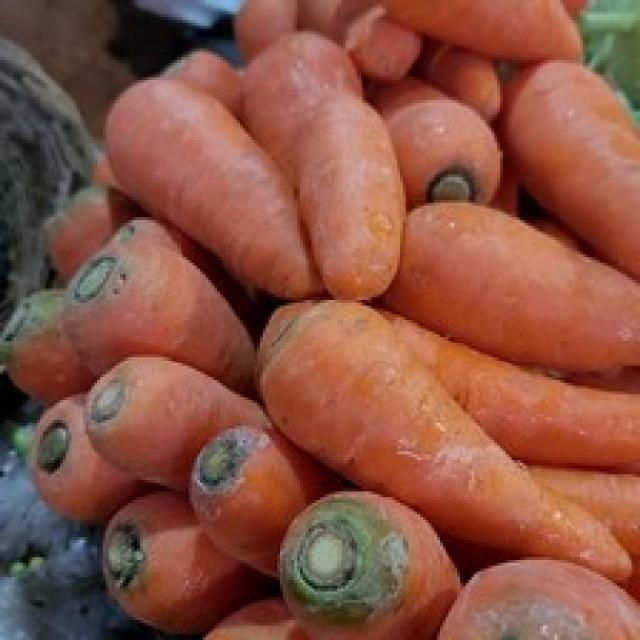Fresh_Carrot: (270, 289, 615, 527), (78, 70, 352, 259)
